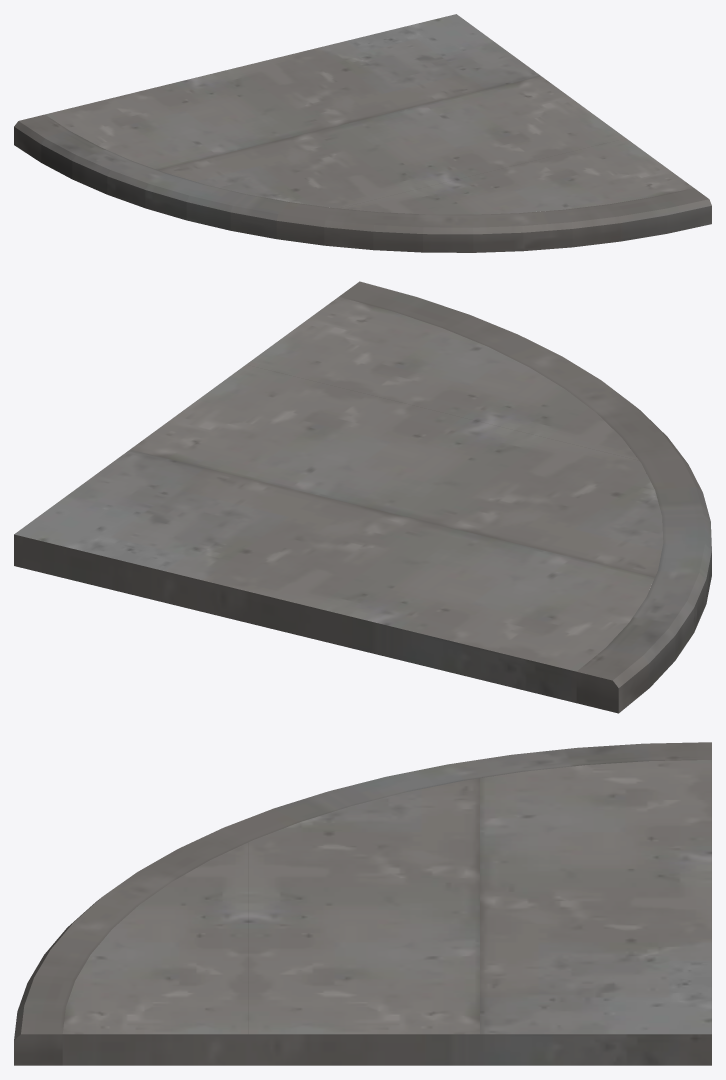
File: Sidewalk_Corner_Round_3m.glb
The picture shows the model from 3 angles, top to bottom: view 1: azimuth 30°, elevation 25°; view 2: azimuth 150°, elevation 25°; view 3: azimuth 270°, elevation 25°; orthographic projection. The views are drawn at different scales.
Visible parts, largest first — view 1: Sidewalk_Corner_Round_3m; view 2: Sidewalk_Corner_Round_3m; view 3: Sidewalk_Corner_Round_3m.
Part boxes in pixels (x1=…): Sidewalk_Corner_Round_3m: x1=14, y1=14, x2=711, y2=252; Sidewalk_Corner_Round_3m: x1=14, y1=281, x2=711, y2=713; Sidewalk_Corner_Round_3m: x1=14, y1=742, x2=711, y2=1065.
Size of the model in its own units: 3.01 by 0.1499 by 3.01.
Materials: 1 (1 with a texture image).
